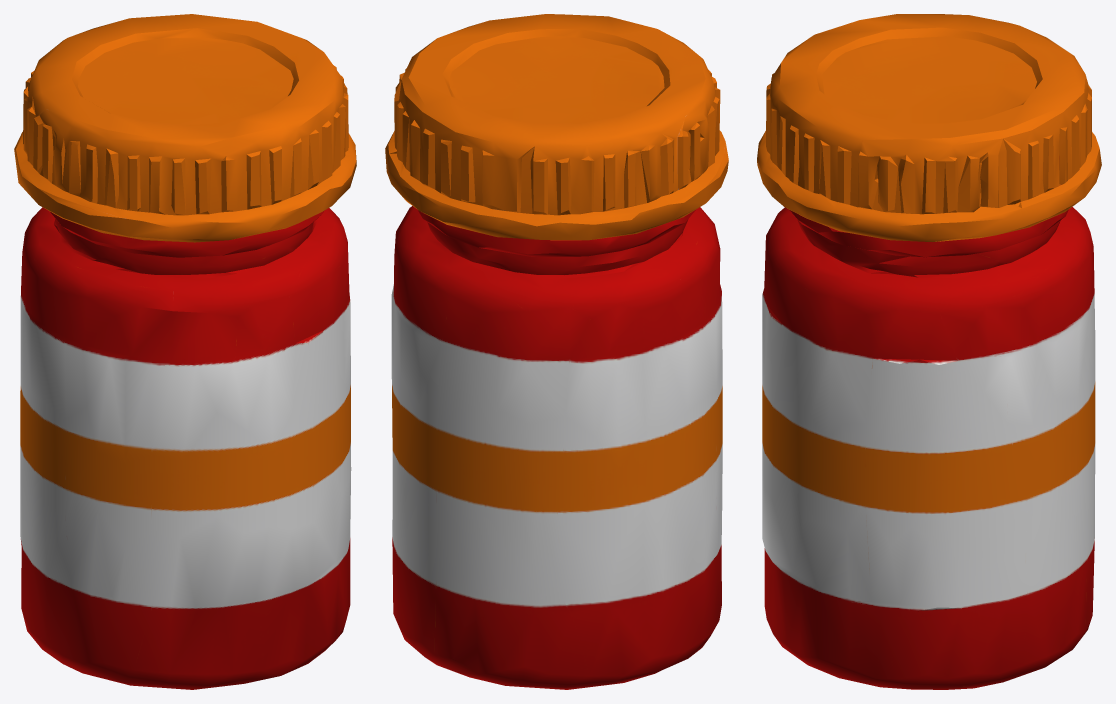
Rendered from Amlodipine.glb.
3 views of the same model, side by side, from view 1: azimuth 30°, elevation 25°; view 2: azimuth 150°, elevation 25°; view 3: azimuth 270°, elevation 25° (orthographic).
Visible parts, largest first — view 1: geometry_0; view 2: geometry_0; view 3: geometry_0.
Boxes of the visible parts, x1=… form: geometry_0: x1=14, y1=14, x2=356, y2=689; geometry_0: x1=385, y1=14, x2=728, y2=689; geometry_0: x1=757, y1=14, x2=1101, y2=689.
Size of the model in its own units: 0.045 by 0.08 by 0.0452.
Materials: 1 (1 with a texture image).
